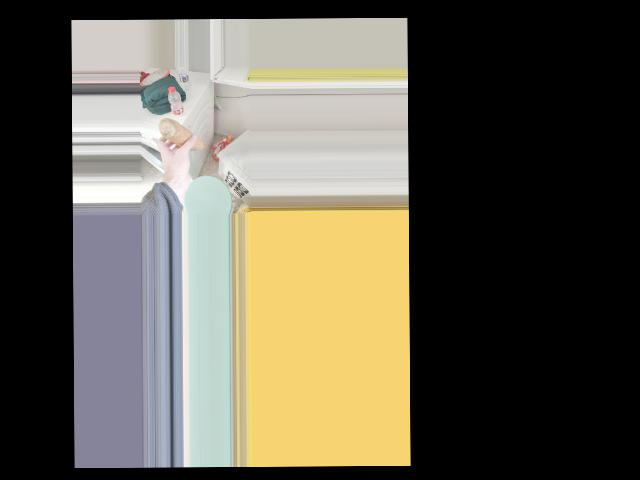sweet_potato: (159, 117, 204, 149)
